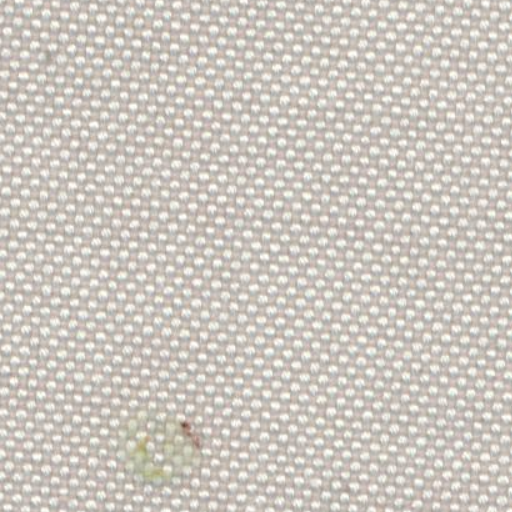WuZi: (116, 400, 225, 498), (32, 38, 70, 78)
